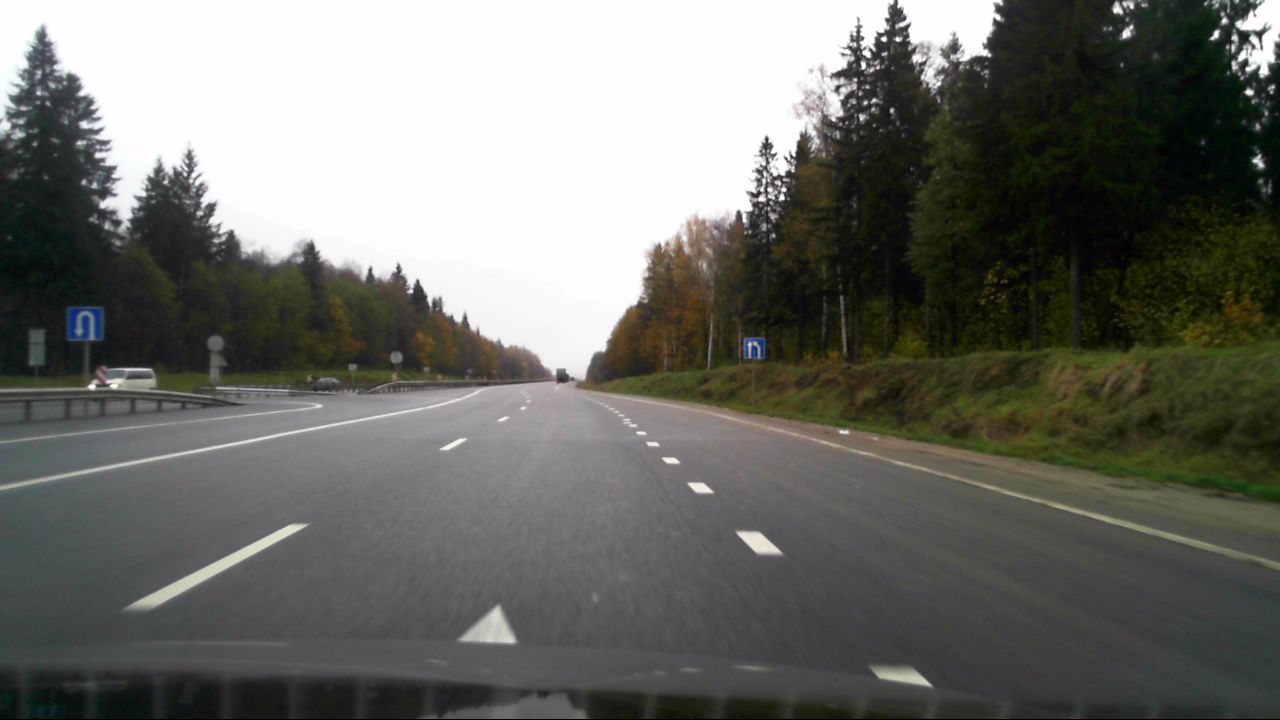U-turn: (67, 307, 102, 341)
